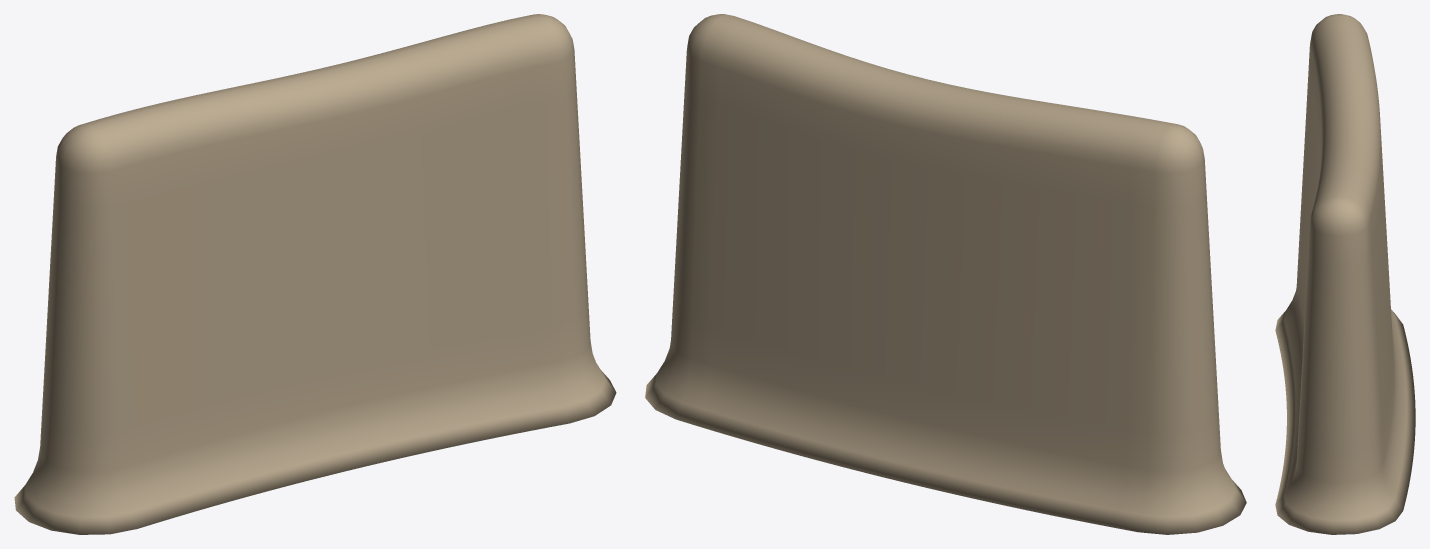
Rendered from KFB_Wall_curved_ring_r5_capAB.r4.glb.
The picture shows the model from 3 angles, left to right: view 1: azimuth 30°, elevation 25°; view 2: azimuth 150°, elevation 25°; view 3: azimuth 270°, elevation 25°; orthographic projection. The views are drawn at different scales.
Parts seen in each view (by area): view 1: KFB_Wall_curved_ring_r5_capAB; view 2: KFB_Wall_curved_ring_r5_capAB; view 3: KFB_Wall_curved_ring_r5_capAB.
Part boxes in pixels (left/top/right/bottom): KFB_Wall_curved_ring_r5_capAB: left=14, top=14, right=616, bottom=534; KFB_Wall_curved_ring_r5_capAB: left=645, top=14, right=1246, bottom=534; KFB_Wall_curved_ring_r5_capAB: left=1275, top=14, right=1415, bottom=534.
Bounding box in the file's own units: 5.82 × 3.6 × 1.47.
